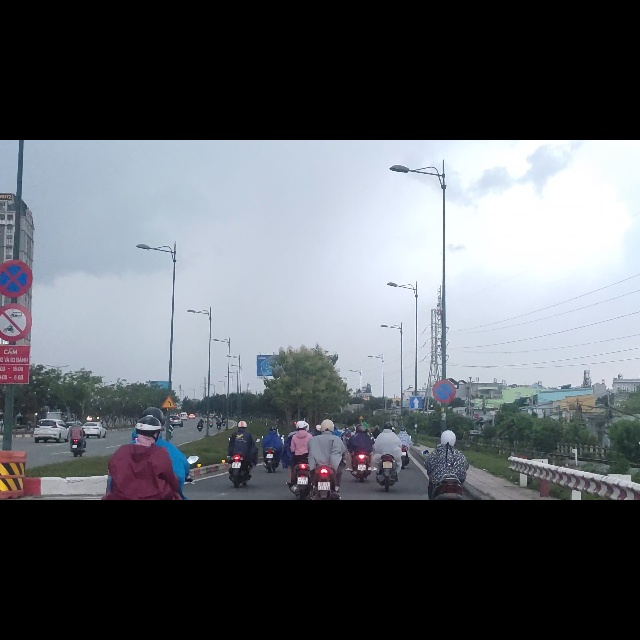bien_chi_dan: (0, 288, 31, 359), (0, 213, 32, 280), (433, 426, 456, 466), (162, 455, 176, 477), (410, 455, 423, 478)
